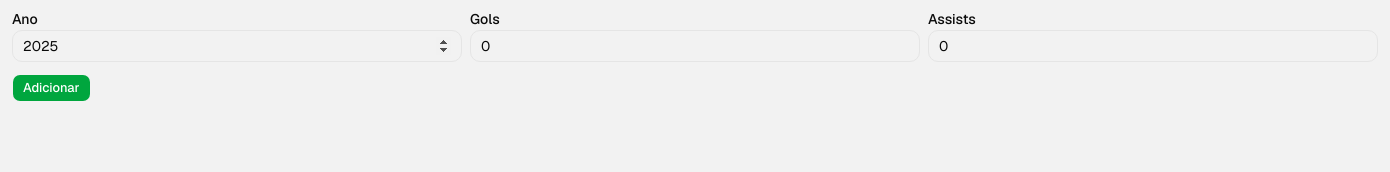
Scenario: RetroactiveStatForm › submission › shows server error when action fails
What coordinates should you click on to do the following:
click the button "Adicionar"
I would click on:
 (51, 88)
Its box is [12, 74, 90, 102].
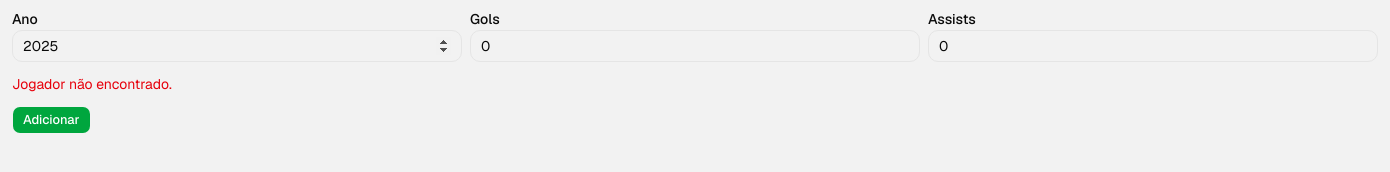
Expected: the text "Jogador não encontrado." is shown, [12, 75, 172, 93]
